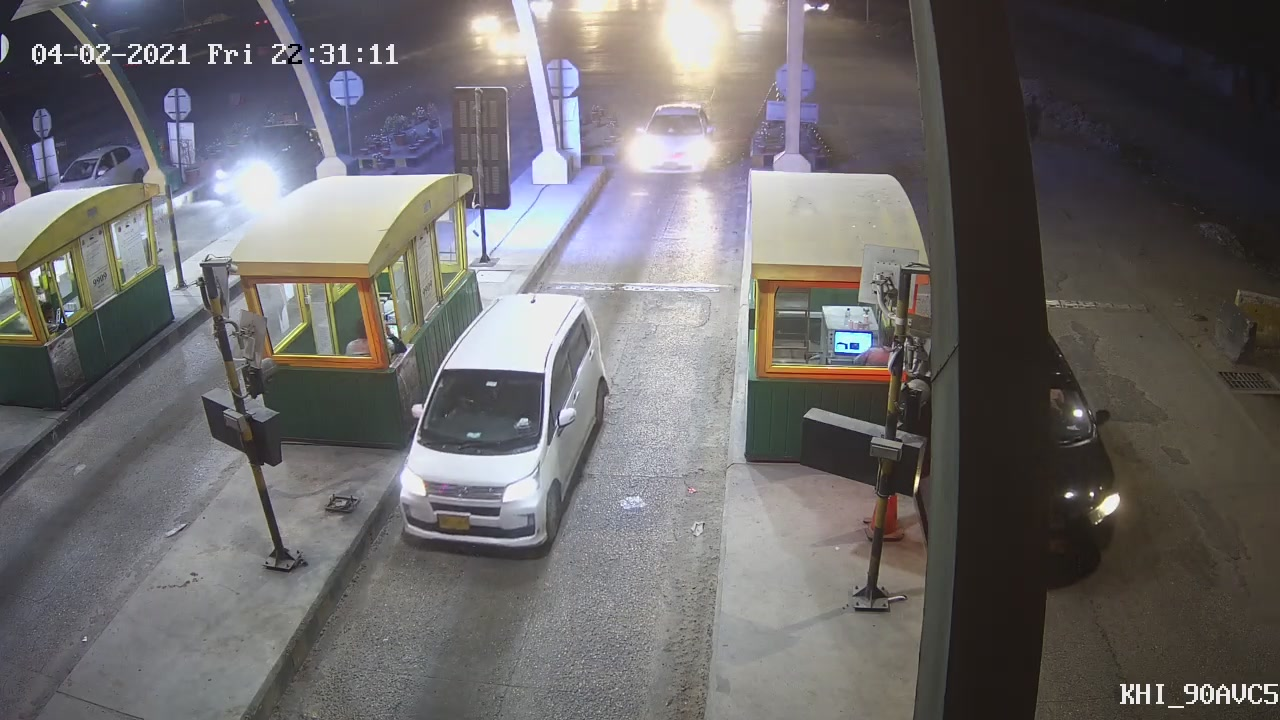F1: (391, 291, 615, 556)
